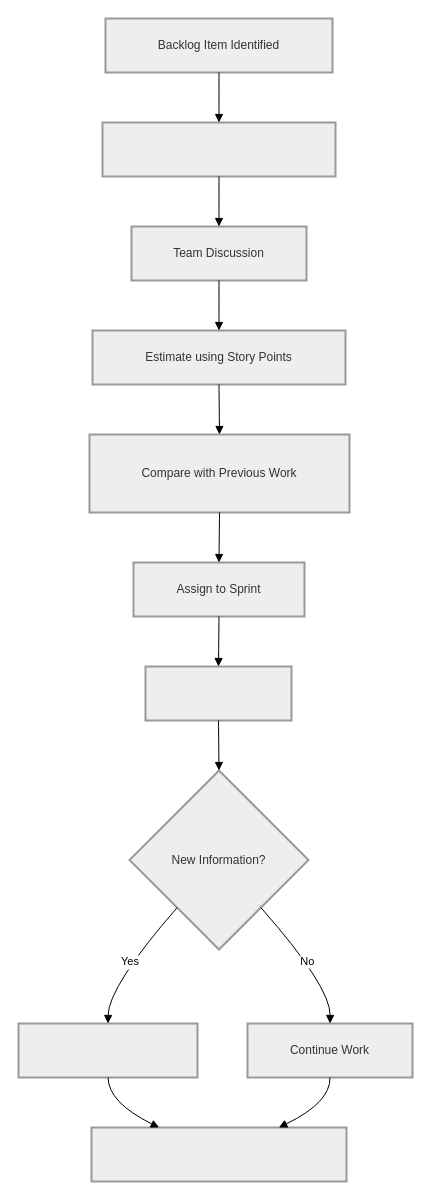
Image size: 430x1199. Some labels were removed from this diagram. Each missing label, with the centre of its shape:
Break into Smaller Tasks: (218,149)
Proceed with Updated Plan: (218,1154)
Update Estimate: (107,1050)
Work Begins: (218,693)
